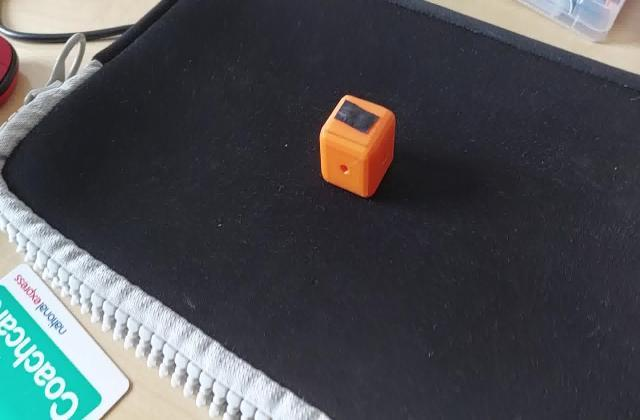black: (336, 105, 384, 136)
sticker: (316, 88, 399, 200)
